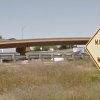Bridge: (6, 29, 92, 54)
